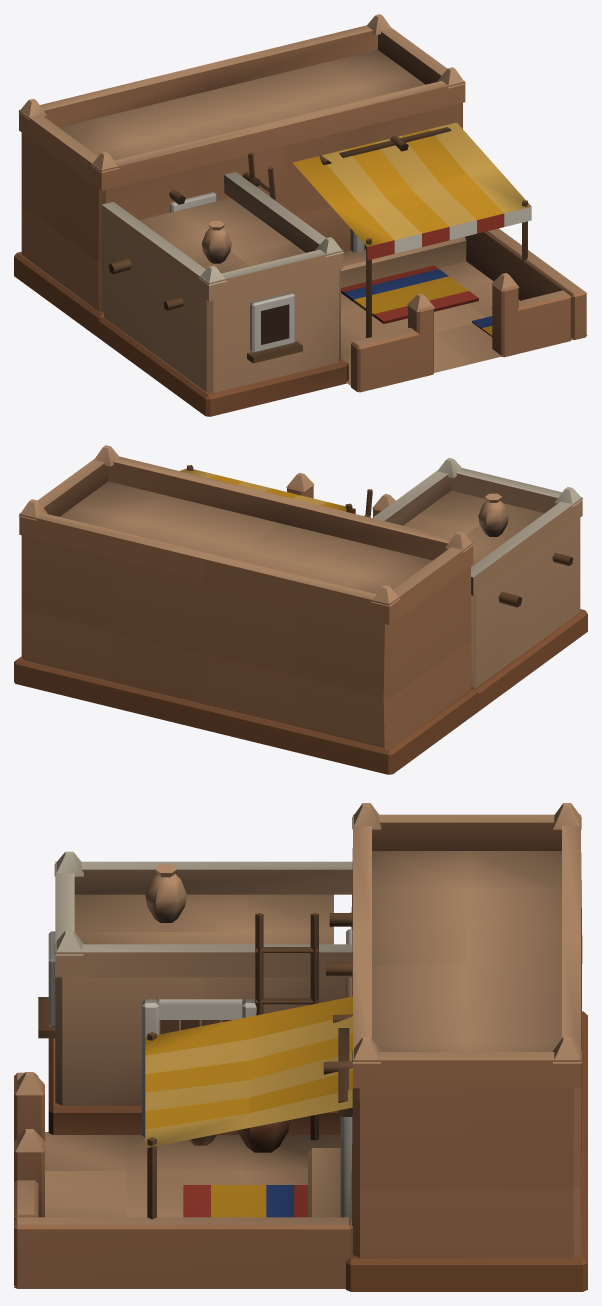
File: maison_c.glb
3 renders of one model, top to bottom at view 1: azimuth 30°, elevation 25°; view 2: azimuth 150°, elevation 25°; view 3: azimuth 270°, elevation 25°, orthographic. The views are drawn at different scales.
Visible parts, largest first — view 1: maison_c; view 2: maison_c; view 3: maison_c.
Boxes of the visible parts, x1,y1,x2,y2 form: maison_c: (14,14,587,416); maison_c: (14,445,587,774); maison_c: (14,803,587,1291).
Size of the model in its own units: 1.78 by 0.78 by 1.66.
